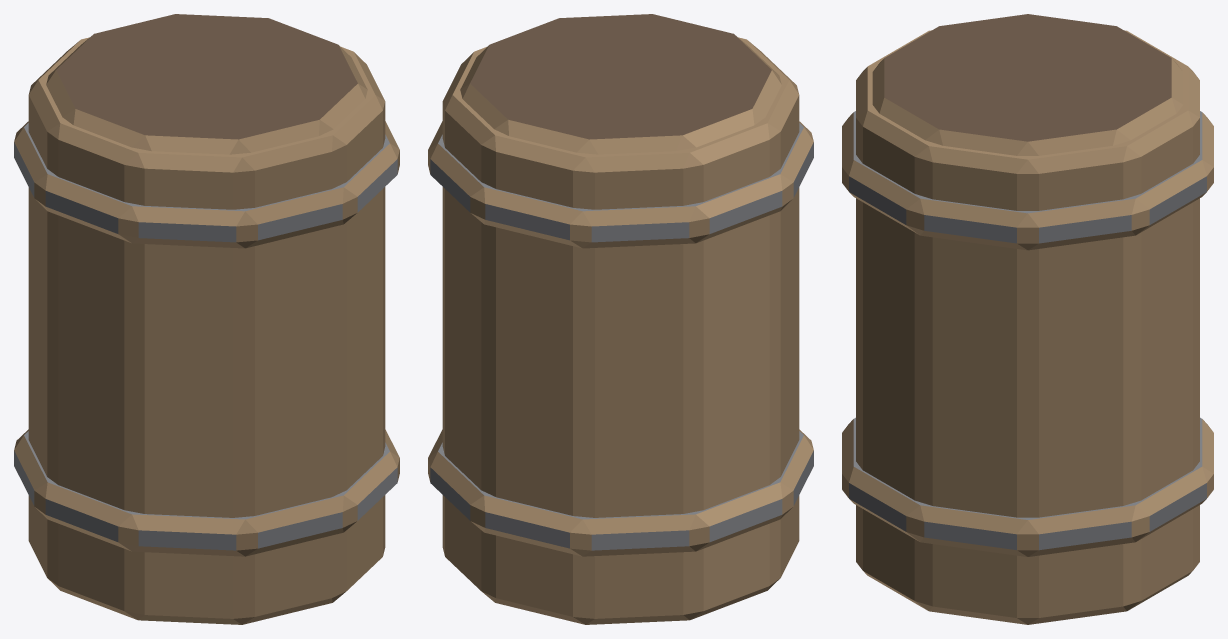
File: SM_Kit_barril.fbx
The picture shows the model from 3 angles, left to right: view 1: azimuth 30°, elevation 25°; view 2: azimuth 150°, elevation 25°; view 3: azimuth 270°, elevation 25°; orthographic projection.
Visible parts, largest first — view 1: SM_Kit_barril; view 2: SM_Kit_barril; view 3: SM_Kit_barril.
Boxes of the visible parts, left/top/right/bottom form: SM_Kit_barril: left=14, top=14, right=399, bottom=624; SM_Kit_barril: left=428, top=14, right=813, bottom=624; SM_Kit_barril: left=842, top=14, right=1213, bottom=624.
Size of what is drawn, in the model's own units: 65.76 by 90 by 63.72.
